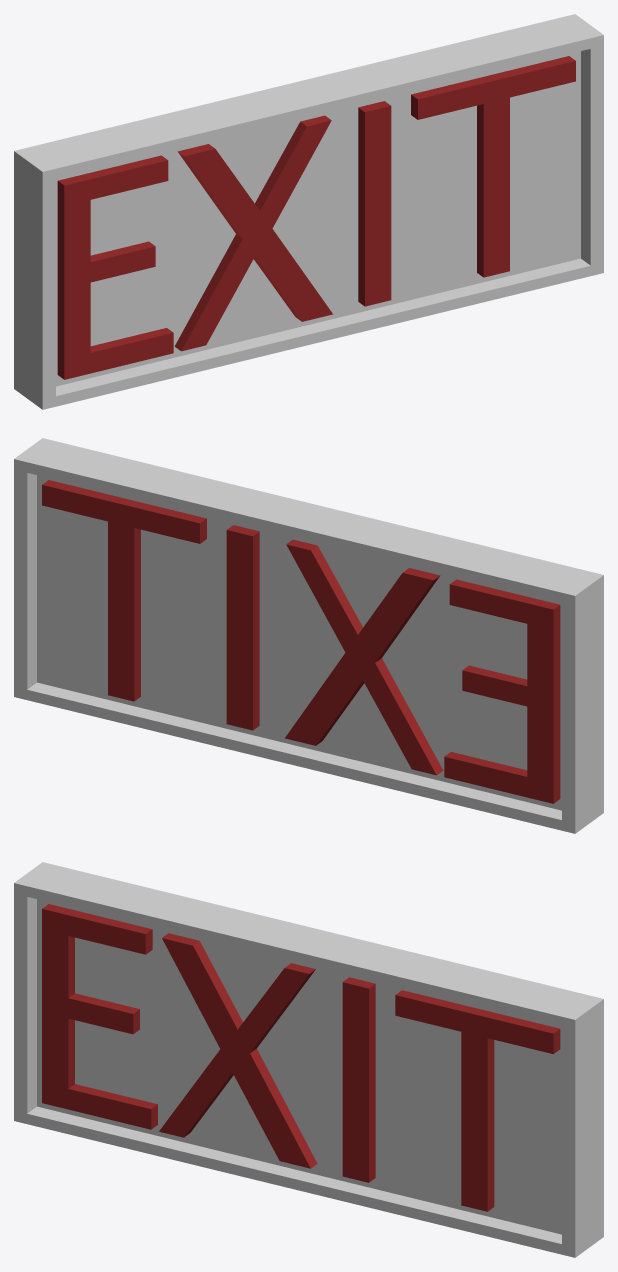
File: Exit_low.fbx
3 renders of one model, top to bottom at view 1: azimuth 30°, elevation 25°; view 2: azimuth 150°, elevation 25°; view 3: azimuth 330°, elevation 25°, orthographic.
Visible parts, largest first — view 1: ExitSign; view 2: ExitSign; view 3: ExitSign.
Boxes of the visible parts, x1=… form: ExitSign: x1=14, y1=14, x2=603, y2=409; ExitSign: x1=14, y1=438, x2=603, y2=833; ExitSign: x1=14, y1=862, x2=603, y2=1257.
Size of the model in its own units: 36.11 by 14.63 by 3.2.
